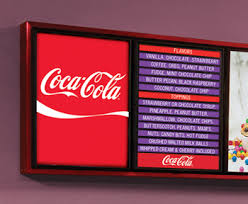coke: (40, 60, 126, 105)
